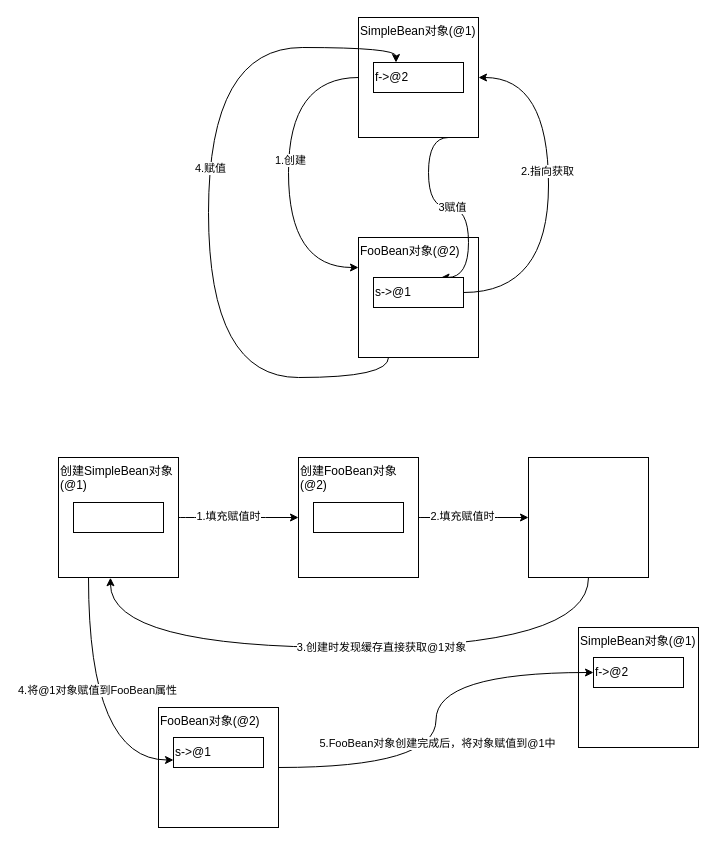
This 716x845 diagram has some shape labels left out. Each missing label, with the centre of its shape:
f->null: point 118,517
s->null: point 358,517
创建SimpleBean对象: point 588,517
